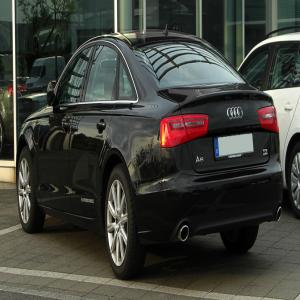Vehicle-registration-plate: (215, 133, 255, 159)
